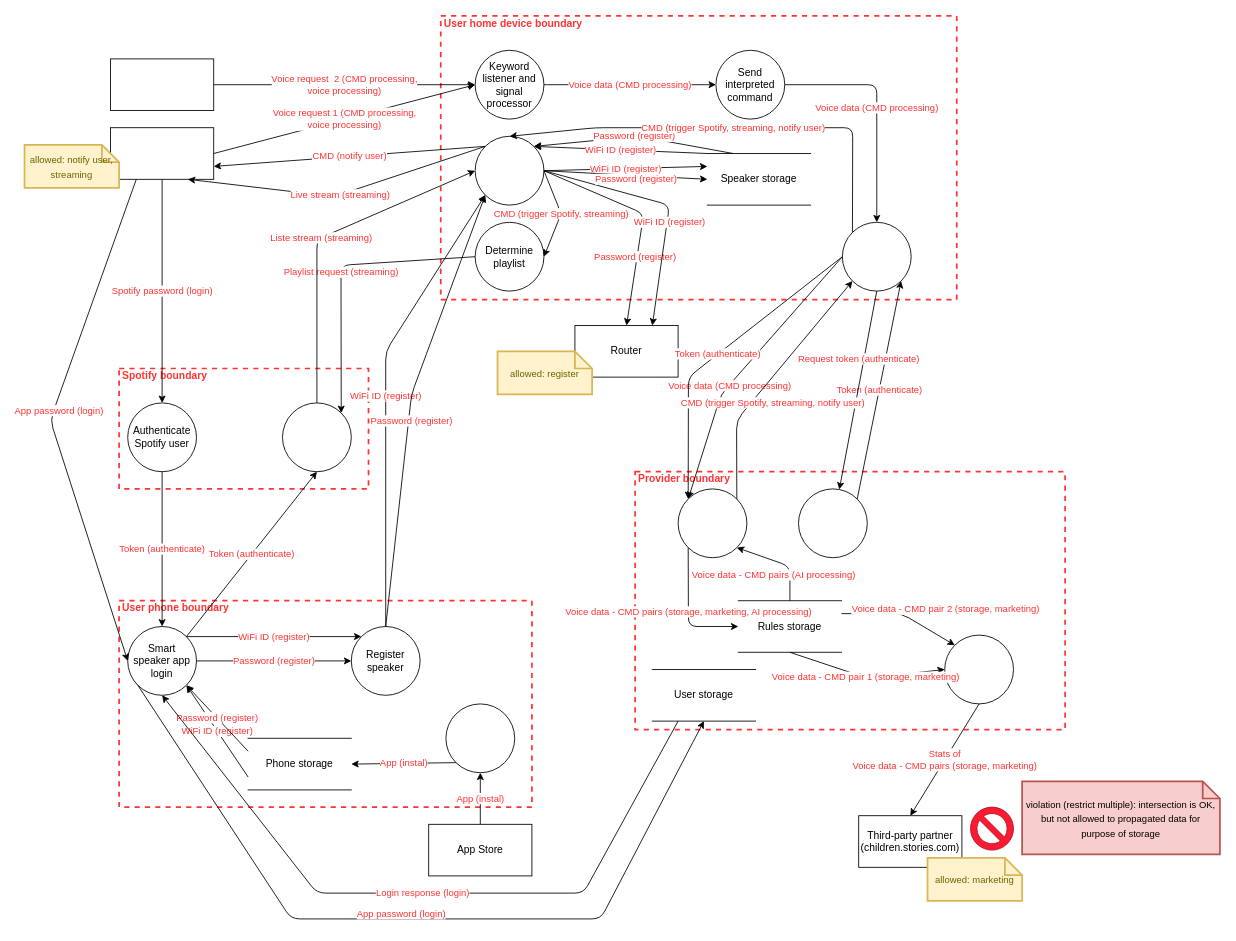
The diagram is 1236 pixels wide and 941 high, and some of its shapes have lost their labels. The shapes that lost their labels are listed below. From the top down, each one's centre as x and y in pixels, then its label:
the point at 162,84: Household user (guest/family)
the point at 162,153: Device owner
the point at 509,170: AI speaker core process
the point at 876,256: Communication handeler
the point at 316,437: Streaming API
the point at 712,523: AI voice service
the point at 832,523: Authenticate client
the point at 979,669: Third-party exposed service
the point at 480,738: Install app on phone
